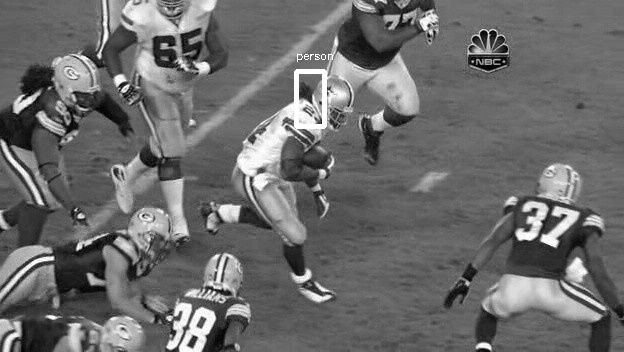person: (316, 78, 352, 133), (315, 78, 351, 133), (317, 78, 353, 133), (316, 77, 352, 132), (316, 79, 352, 134)
target_negative: (300, 306, 608, 343), (124, 287, 505, 309), (160, 85, 178, 234), (531, 128, 573, 191), (519, 206, 527, 251), (375, 342, 539, 343)
